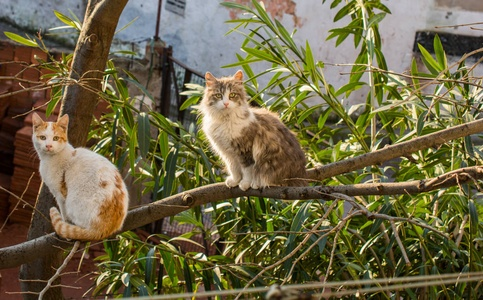cat: (199, 70, 308, 191), (31, 112, 131, 242)
